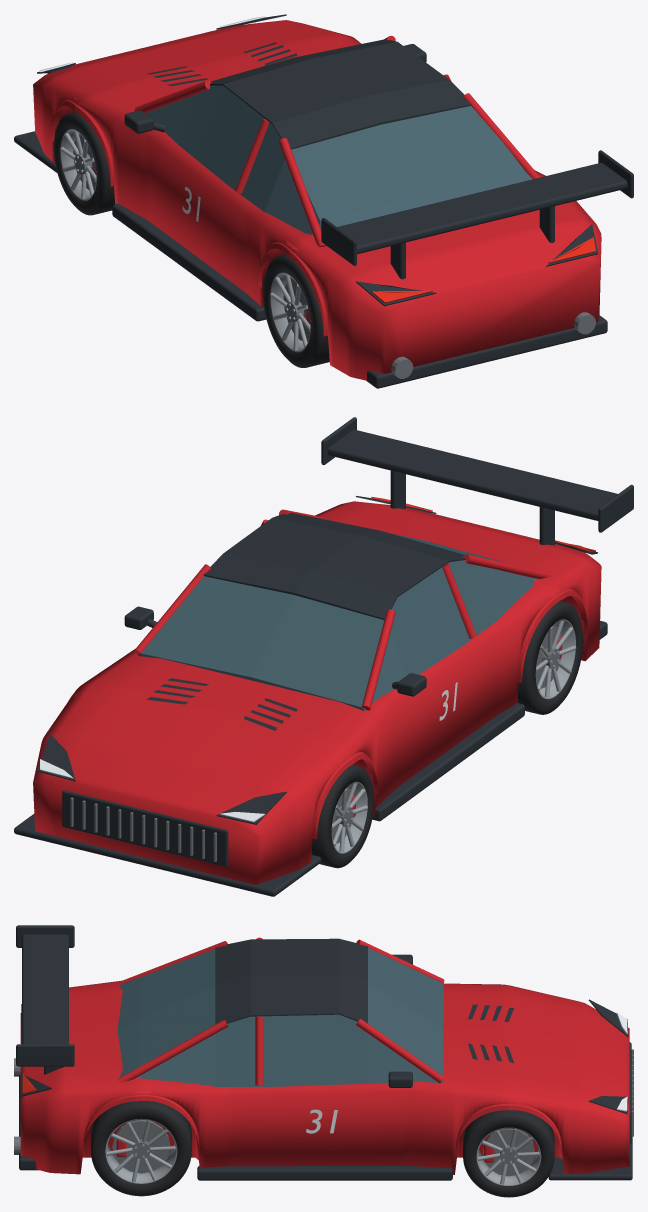
Rendered from SHIBATA31.fbx.
3 views of the same model, one above another, from view 1: azimuth 30°, elevation 25°; view 2: azimuth 150°, elevation 25°; view 3: azimuth 270°, elevation 25° (orthographic). The views are drawn at different scales.
Parts seen in each view (by area): view 1: Widebody with four wheel wells, Glazing, Roof skin, Wing foil, Rocker extension, Rear diffuser, Tyre_RL, Tyre_FL, C pillar, Overfender lip, Wing endplate, Overfender lip.001 (+10 smaller); view 2: Widebody with four wheel wells, Glazing, Roof skin, Wing foil, Intake opening, Rocker extension, Front splitter, Tyre_RL, Tyre_FL, Overfender lip, A pillar, Wing endplate (+7 smaller); view 3: Widebody with four wheel wells, Glazing, Roof skin, Wing foil, Tyre_RR, Tyre_FR, Rocker extension.001, Brake disc.003, Wing endplate.001, Front splitter, Brake disc.001, Rim barrel.003 (+10 smaller).
Boxes of the visible parts, bbox=[...] form: Widebody with four wheel wells: bbox=[33, 20, 601, 380]; Glazing: bbox=[145, 85, 532, 235]; Roof skin: bbox=[209, 39, 471, 149]; Wing foil: bbox=[337, 162, 627, 254]; Rocker extension: bbox=[112, 203, 266, 321]; Rear diffuser: bbox=[366, 315, 607, 388]; Tyre_RL: bbox=[263, 254, 329, 367]; Tyre_FL: bbox=[54, 112, 115, 215]; C pillar: bbox=[279, 138, 326, 247]; Overfender lip: bbox=[258, 240, 327, 336]; Wing endplate: bbox=[321, 218, 356, 265]; Overfender lip.001: bbox=[50, 97, 114, 186]; Widebody with four wheel wells: bbox=[33, 501, 601, 884]; Glazing: bbox=[137, 518, 537, 711]; Roof skin: bbox=[203, 512, 465, 619]; Wing foil: bbox=[328, 429, 617, 520]; Intake opening: bbox=[62, 790, 228, 866]; Rocker extension: bbox=[372, 703, 524, 821]; Front splitter: bbox=[14, 814, 321, 896]; Tyre_RL: bbox=[517, 601, 583, 714]; Tyre_FL: bbox=[311, 764, 374, 868]; Overfender lip: bbox=[518, 587, 588, 682]; A pillar: bbox=[361, 609, 395, 710]; Wing endplate: bbox=[598, 484, 633, 532]; Widebody with four wheel wells: bbox=[20, 980, 629, 1174]; Glazing: bbox=[117, 948, 443, 1086]; Roof skin: bbox=[215, 938, 367, 1024]; Wing foil: bbox=[22, 934, 68, 1044]; Tyre_RR: bbox=[91, 1101, 191, 1196]; Tyre_FR: bbox=[463, 1110, 554, 1197]; Rocker extension.001: bbox=[197, 1166, 452, 1180]; Brake disc.003: bbox=[112, 1120, 170, 1173]; Wing endplate.001: bbox=[16, 1044, 74, 1066]; Front splitter: bbox=[548, 1136, 632, 1180]; Brake disc.001: bbox=[482, 1128, 534, 1176]; Rim barrel.003: bbox=[105, 1118, 177, 1183].
Size of the model in its own units: 207 by 130 by 434.
